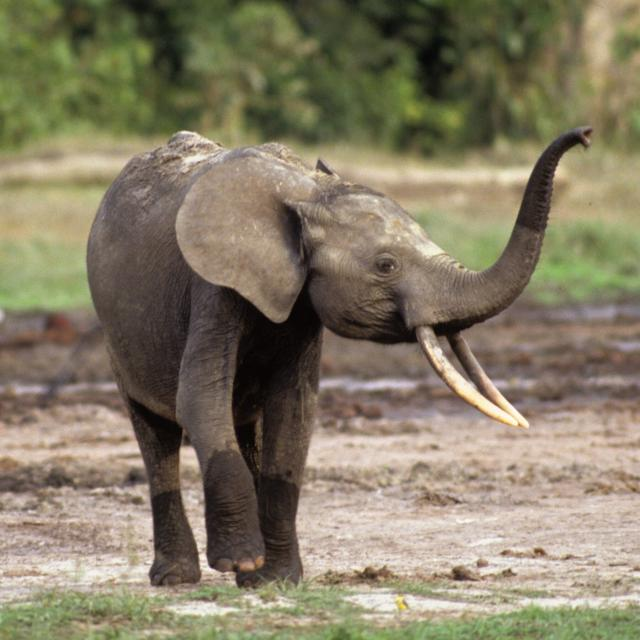Elephant: (85, 124, 593, 590)
